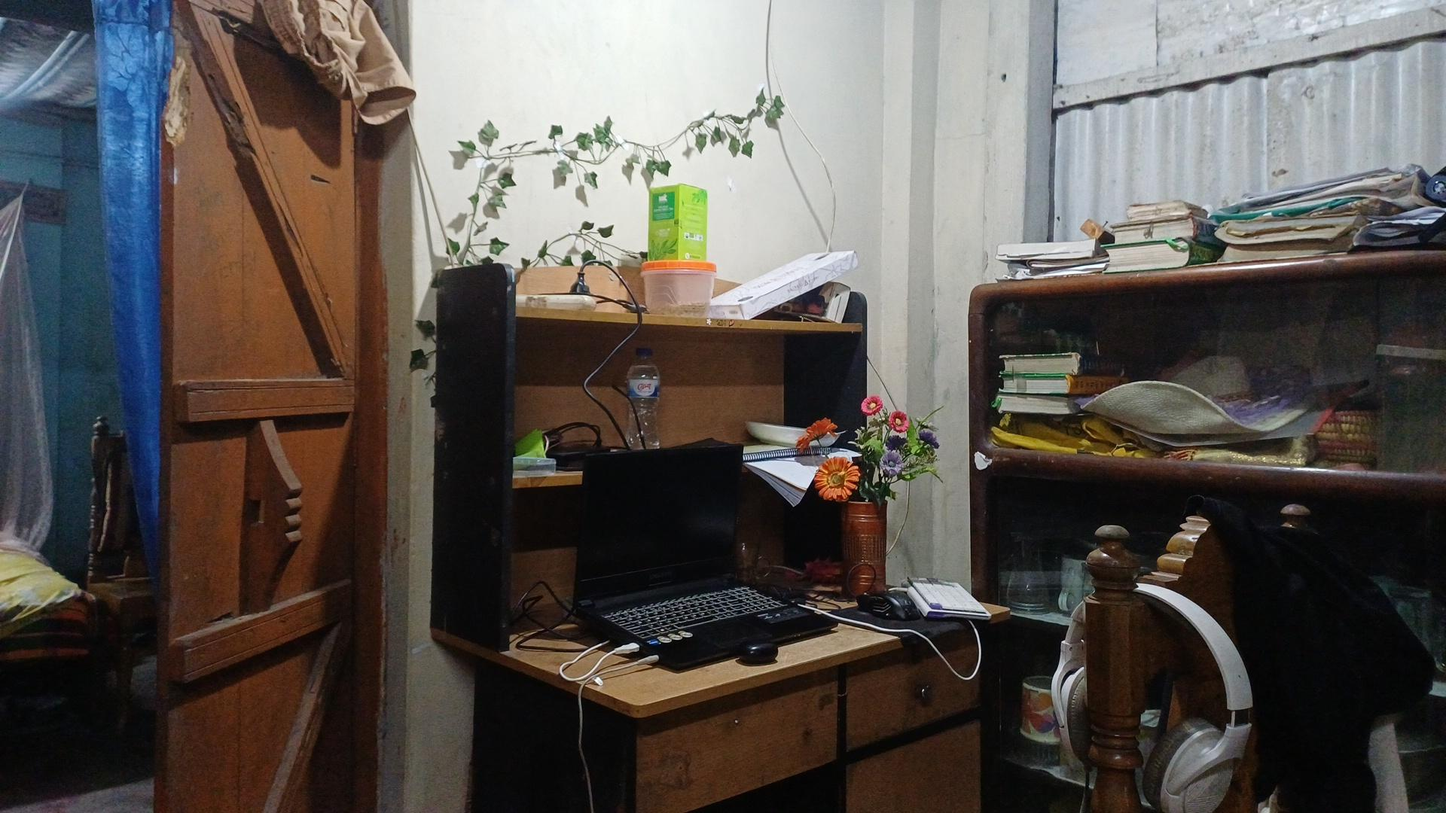Book: (1114, 175, 1195, 283), (1227, 207, 1365, 265), (993, 348, 1087, 422)
Bottle: (610, 335, 671, 457)
Box: (631, 165, 715, 259), (720, 276, 854, 319)
Door: (95, 8, 406, 794)
Drawer: (840, 673, 1019, 747)
Food: (642, 268, 720, 323)
Keyboard: (914, 564, 1024, 629)
Laptop: (574, 436, 834, 664)
Mouse: (852, 593, 912, 634)
Plant: (797, 406, 904, 590)
